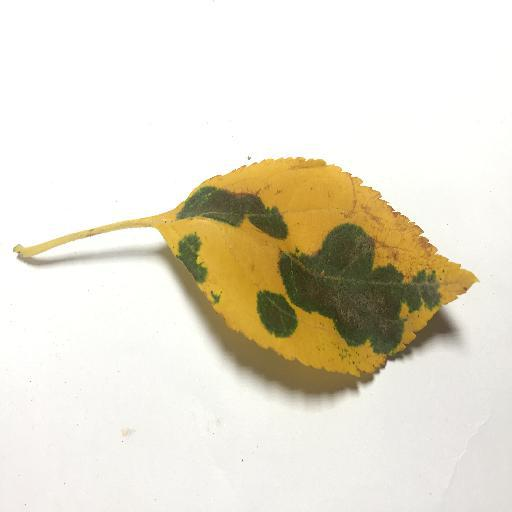Brown_Spot: (293, 255, 406, 324), (218, 195, 280, 229)
